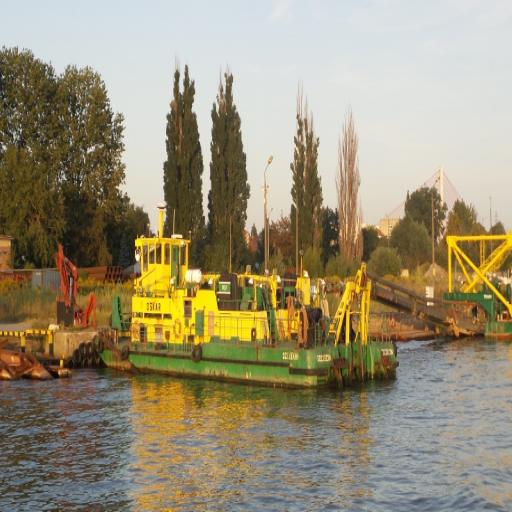tugboat: (94, 202, 401, 400)
